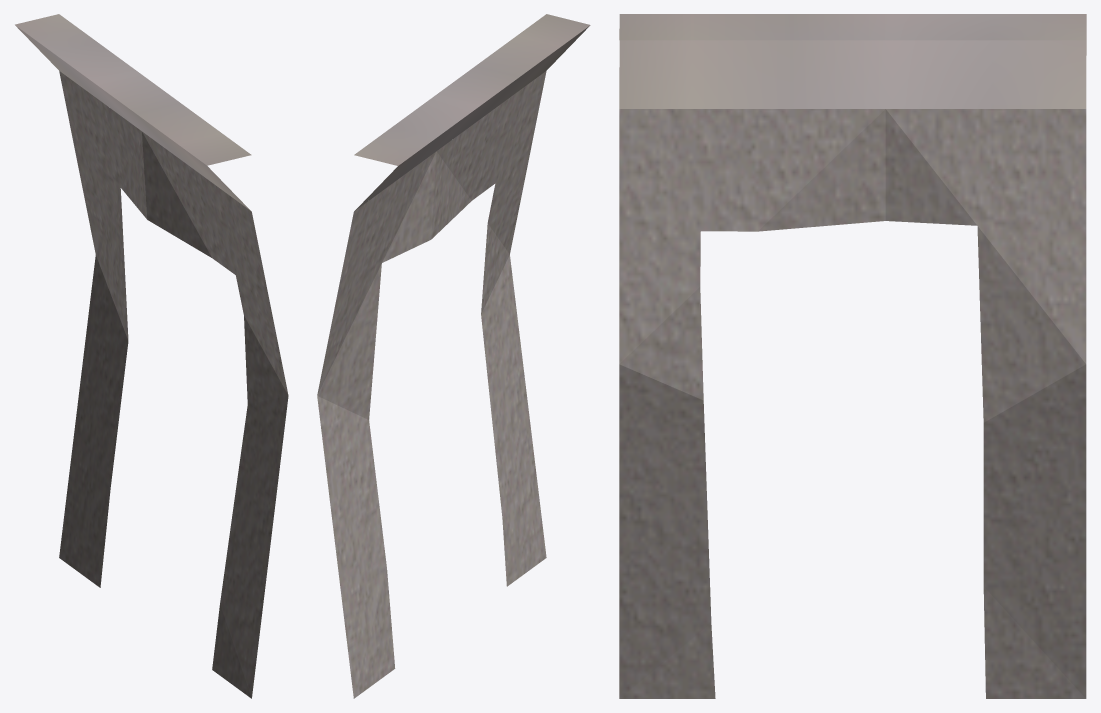
The model's file is W_A3_o [Grau]_1378.glb.
3 renders of one model, left to right at view 1: azimuth 30°, elevation 25°; view 2: azimuth 150°, elevation 25°; view 3: azimuth 270°, elevation 25°, orthographic. The views are drawn at different scales.
Parts seen in each view (by area): view 1: polySurfaceShape1213, polySurfaceShape1215; view 2: polySurfaceShape1213, polySurfaceShape1215; view 3: polySurfaceShape1213, polySurfaceShape1215.
Boxes of the visible parts, left/top/right/bottom form: polySurfaceShape1213: left=59, top=71, right=288, bottom=698; polySurfaceShape1215: left=15, top=14, right=251, bottom=211; polySurfaceShape1213: left=317, top=71, right=546, bottom=698; polySurfaceShape1215: left=354, top=14, right=590, bottom=211; polySurfaceShape1213: left=619, top=109, right=1086, bottom=698; polySurfaceShape1215: left=619, top=14, right=1086, bottom=108.
Bounding box in the file's own units: 0.0607 × 0.3891 × 0.2503.
Materials: 2 (2 with a texture image).
